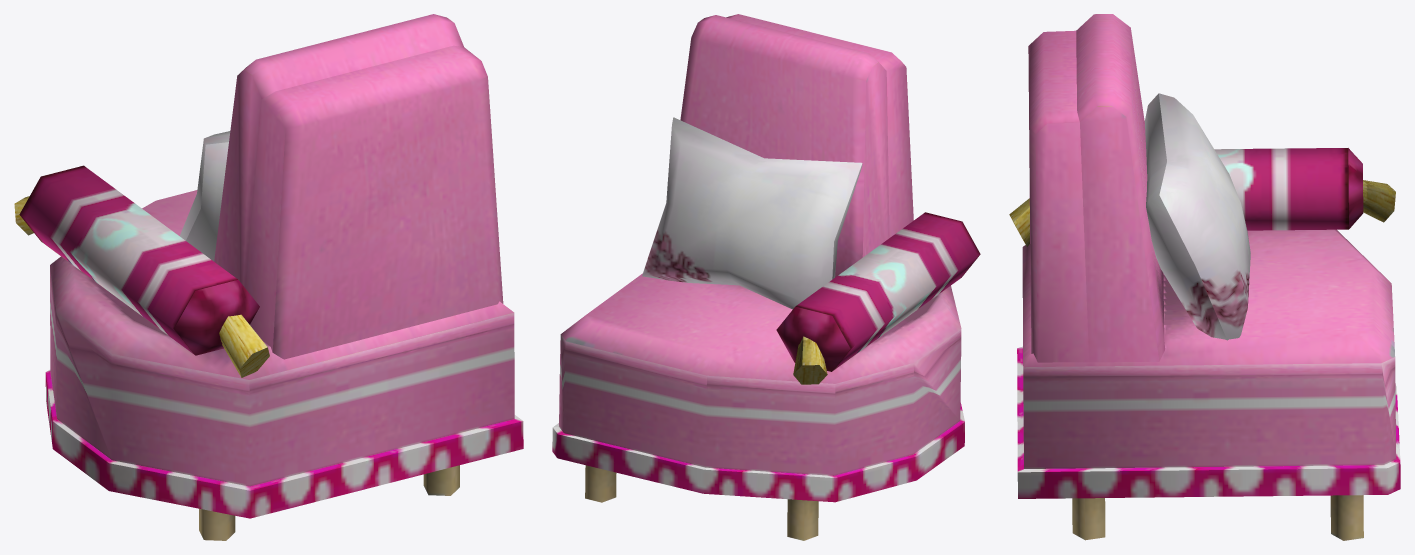
File: furni_0200511_01.FBX
The picture shows the model from 3 angles, left to right: view 1: azimuth 30°, elevation 25°; view 2: azimuth 150°, elevation 25°; view 3: azimuth 270°, elevation 25°; orthographic projection. The views are drawn at different scales.
Visible parts, largest first — view 1: furni_0200511_01; view 2: furni_0200511_01; view 3: furni_0200511_01.
Boxes of the visible parts, x1,y1,x2,y2 form: furni_0200511_01: (14,14,523,540); furni_0200511_01: (552,14,980,540); furni_0200511_01: (1009,14,1400,540).
Size of the model in its own units: 78.04 by 98.97 by 79.36.
1 material, 1 textured.
